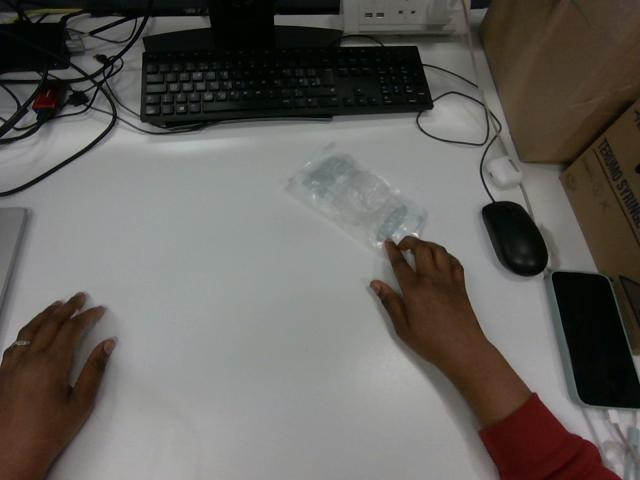gallipot: (286, 148, 425, 249)
